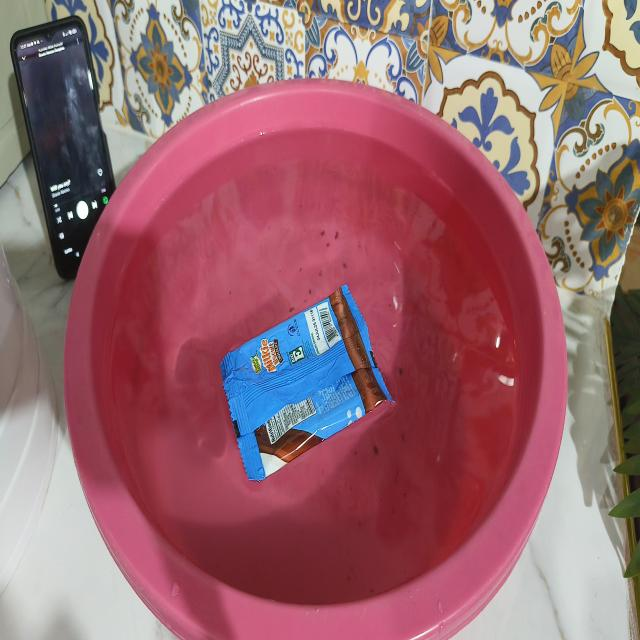Plastic Wrapper: (220, 285, 392, 481)
